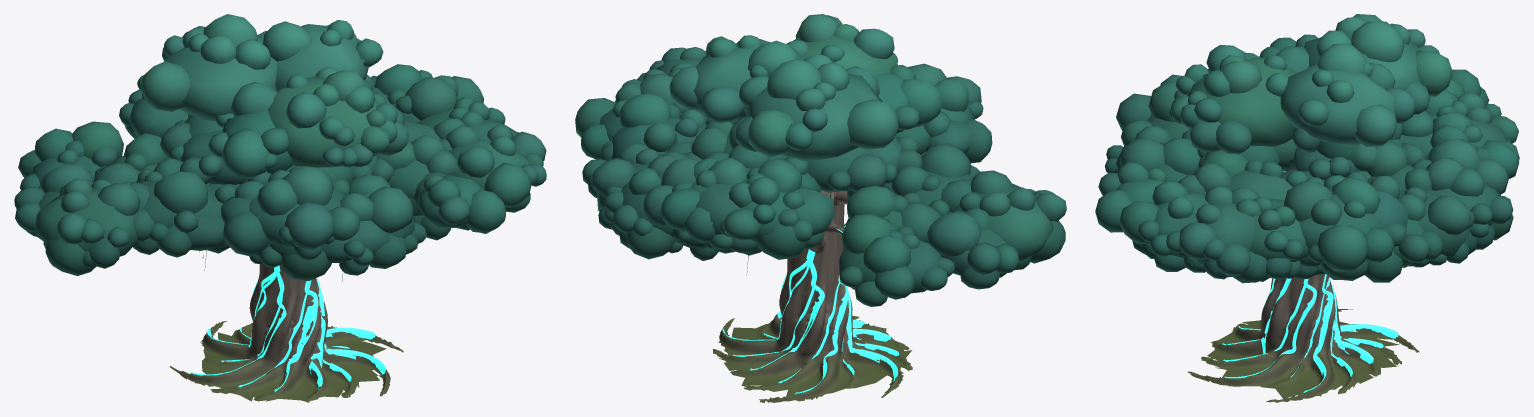
Rendered from arvore-mae-gomos-leve.glb.
3 views of the same model, side by side, from view 1: azimuth 30°, elevation 25°; view 2: azimuth 150°, elevation 25°; view 3: azimuth 270°, elevation 25° (orthographic).
Visible parts, largest first — view 1: copa_mae, TRONCO_MAE_RAIZ, veios; view 2: copa_mae, TRONCO_MAE_RAIZ, veios; view 3: copa_mae, TRONCO_MAE_RAIZ, veios.
Boxes of the visible parts, bbox=[...] form: copa_mae: bbox=[14, 14, 546, 280]; TRONCO_MAE_RAIZ: bbox=[170, 250, 403, 402]; veios: bbox=[190, 265, 386, 391]; copa_mae: bbox=[575, 14, 1066, 306]; TRONCO_MAE_RAIZ: bbox=[713, 190, 912, 402]; veios: bbox=[722, 223, 899, 394]; copa_mae: bbox=[1095, 14, 1519, 283]; TRONCO_MAE_RAIZ: bbox=[1187, 170, 1419, 402]; veios: bbox=[1222, 274, 1398, 392].
Bounding box in the file's own units: 69.62 × 47.74 × 56.73.
